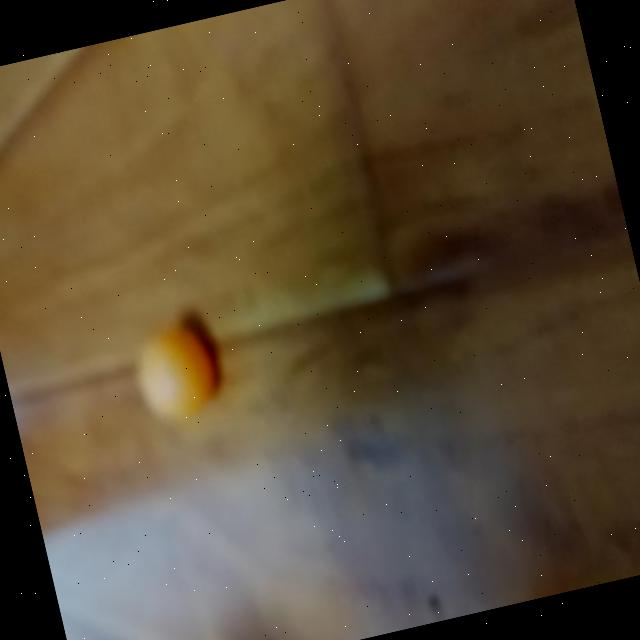ping-pong-ball: (128, 320, 224, 428)
